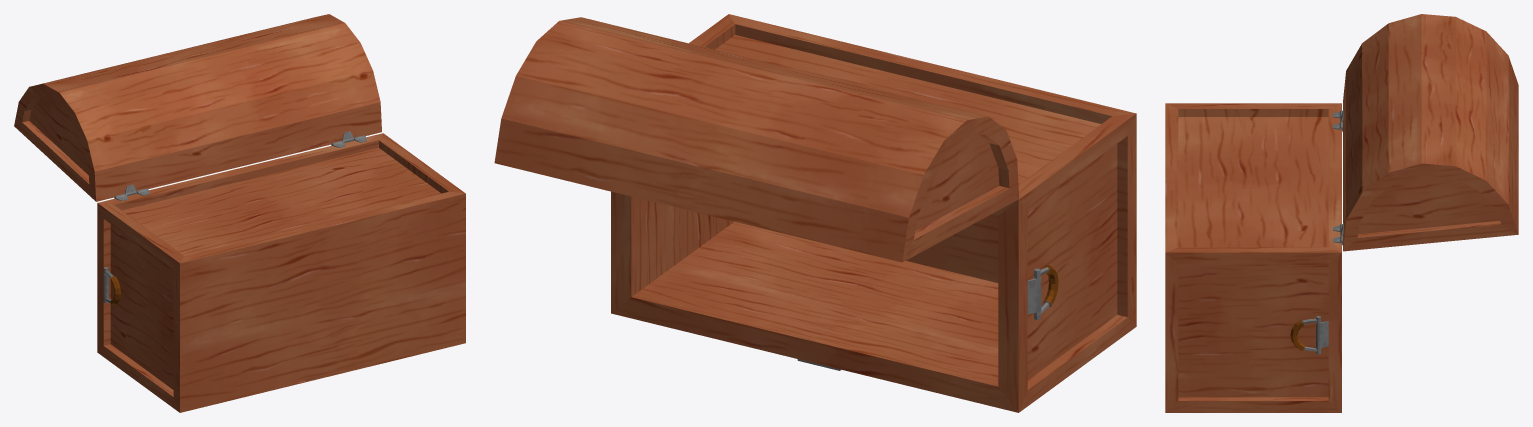
The model's file is AA2793_Chest_Unity.fbx.
3 views of the same model, side by side, from view 1: azimuth 30°, elevation 25°; view 2: azimuth 150°, elevation 25°; view 3: azimuth 270°, elevation 25° (orthographic). The views are drawn at different scales.
Parts seen in each view (by area): view 1: chest_bottom, chest_top; view 2: chest_bottom, chest_top; view 3: chest_bottom, chest_top.
Boxes of the visible parts, left/top/right/bottom form: chest_bottom: left=97, top=133, right=465, bottom=412; chest_top: left=14, top=14, right=381, bottom=201; chest_bottom: left=611, top=14, right=1136, bottom=412; chest_top: left=494, top=17, right=1019, bottom=262; chest_bottom: left=1165, top=103, right=1342, bottom=412; chest_top: left=1340, top=14, right=1518, bottom=251.
Bounding box in the file's own units: 414 × 316 × 400.
